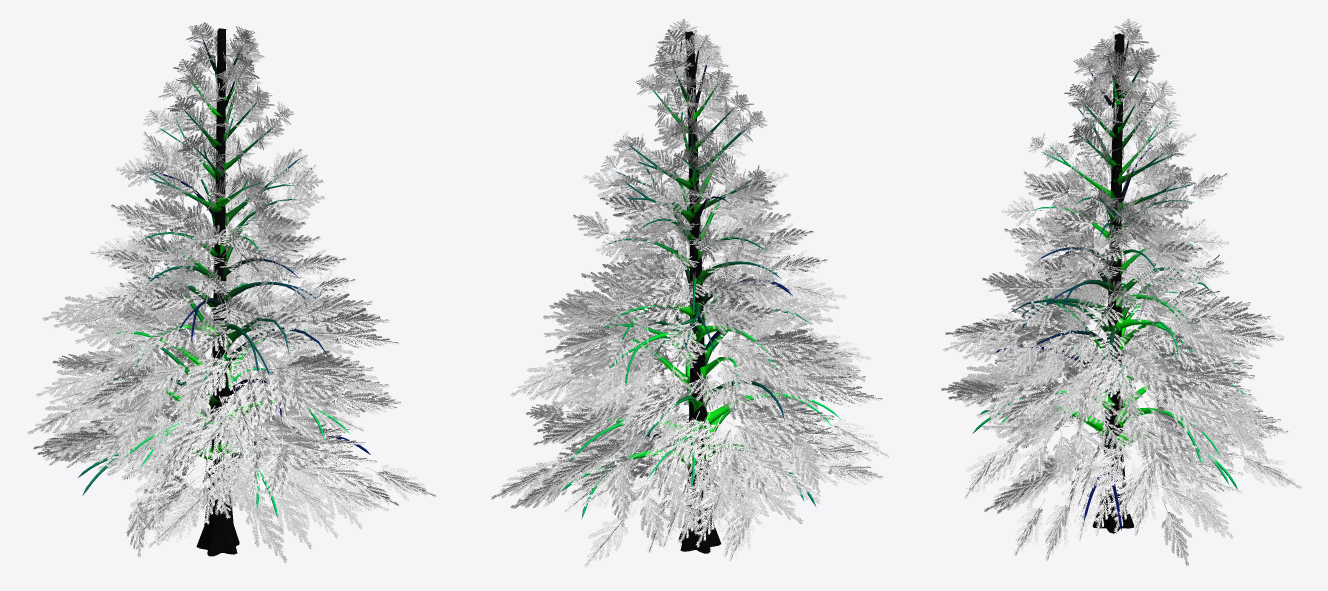
The model's file is Tree_Blender_004_Spruce.fbx.
3 renders of one model, left to right at view 1: azimuth 30°, elevation 25°; view 2: azimuth 150°, elevation 25°; view 3: azimuth 270°, elevation 25°, orthographic. The views are drawn at different scales.
Visible parts, largest first — view 1: leafclumpatlas_spruce_1, _0; view 2: leafclumpatlas_spruce_1, _0; view 3: leafclumpatlas_spruce_1, _0.
Part boxes in pixels (bbox=[...]): leafclumpatlas_spruce_1: bbox=[27, 22, 436, 563]; _0: bbox=[78, 28, 370, 556]; leafclumpatlas_spruce_1: bbox=[491, 19, 888, 567]; _0: bbox=[561, 31, 840, 553]; leafclumpatlas_spruce_1: bbox=[941, 18, 1301, 565]; _0: bbox=[972, 33, 1245, 533].
Size of the model in its own units: 635 by 926 by 637.
